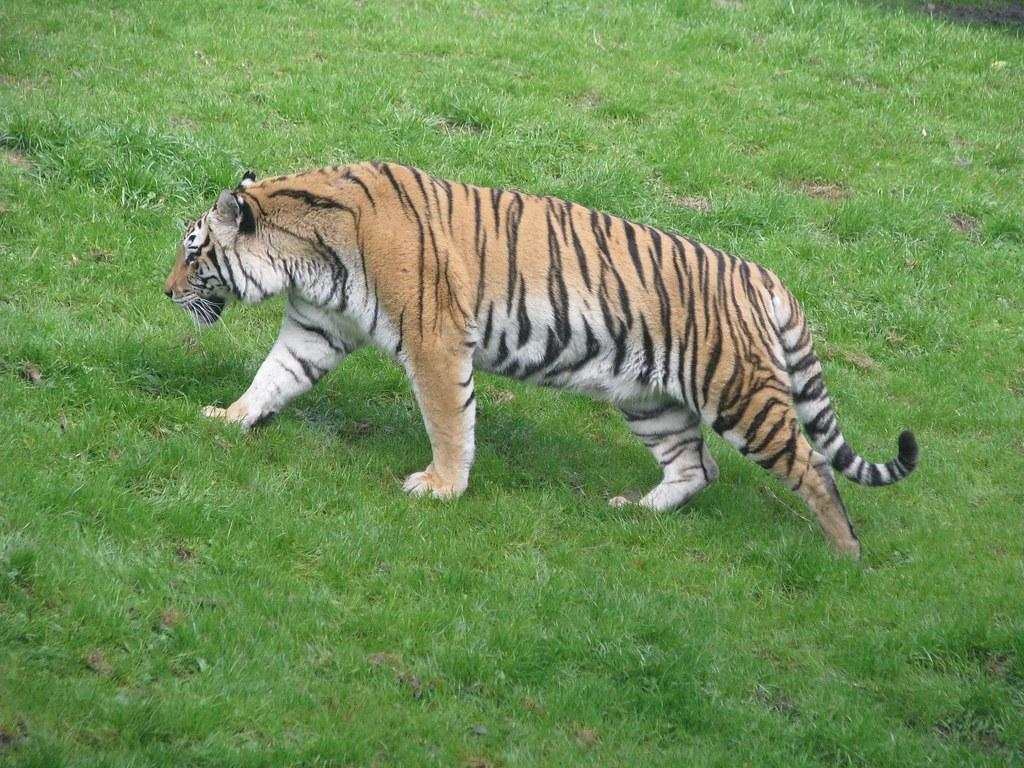tiger: (164, 159, 920, 565)
